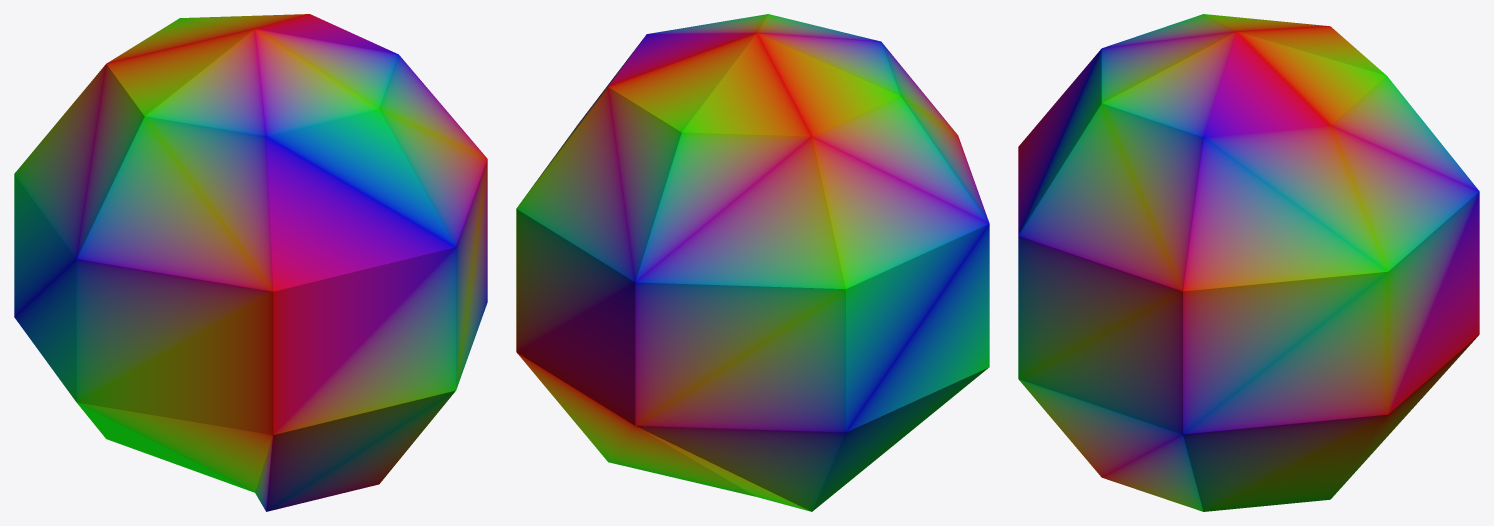
Rendered from re_decimating_conquest_10_retriangulation.obj.
3 views of the same model, side by side, from view 1: azimuth 30°, elevation 25°; view 2: azimuth 150°, elevation 25°; view 3: azimuth 270°, elevation 25° (orthographic).
Bounding box in the file's own units: 1.85 × 2 × 1.81.
